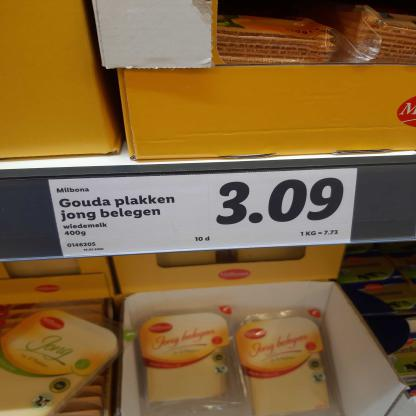prtg: (50, 169, 359, 258)
